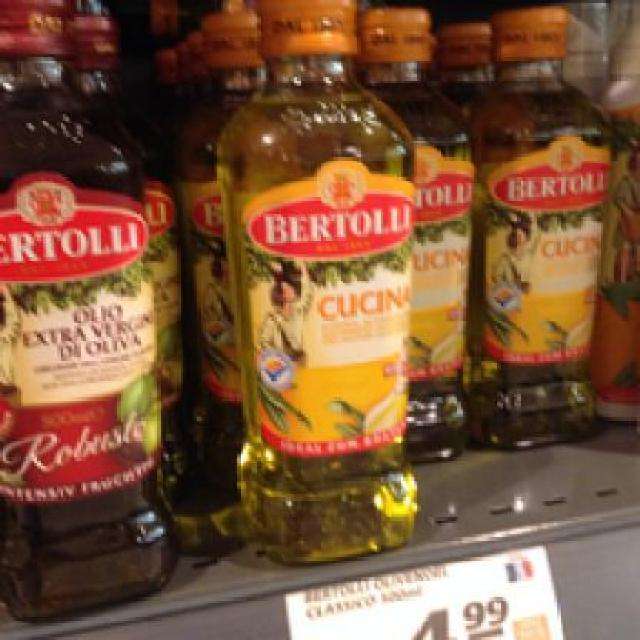Oil: (211, 0, 420, 563), (0, 0, 177, 620), (466, 6, 608, 440)
